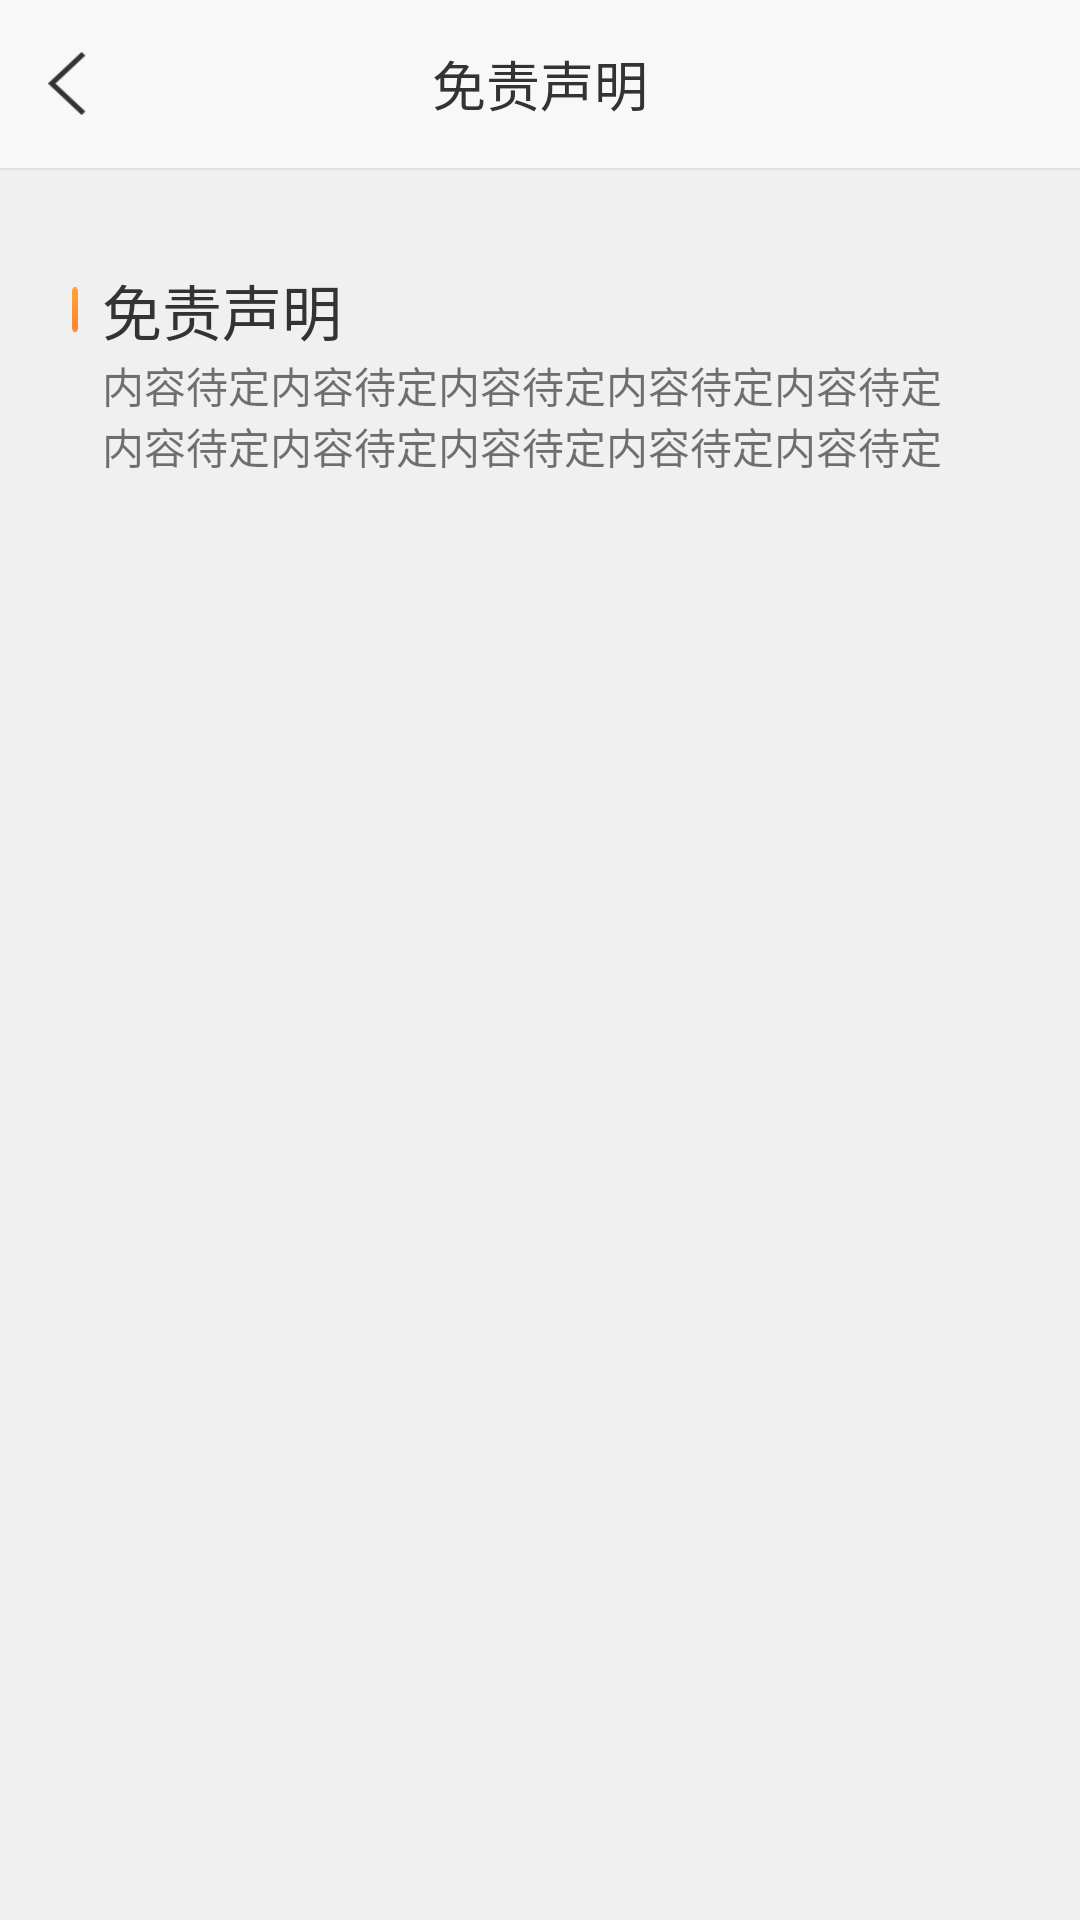

Where icons sit on this 1080 x 1920 app screen, as (x1, y1, x2, y2):
back: (48, 52, 86, 115)
